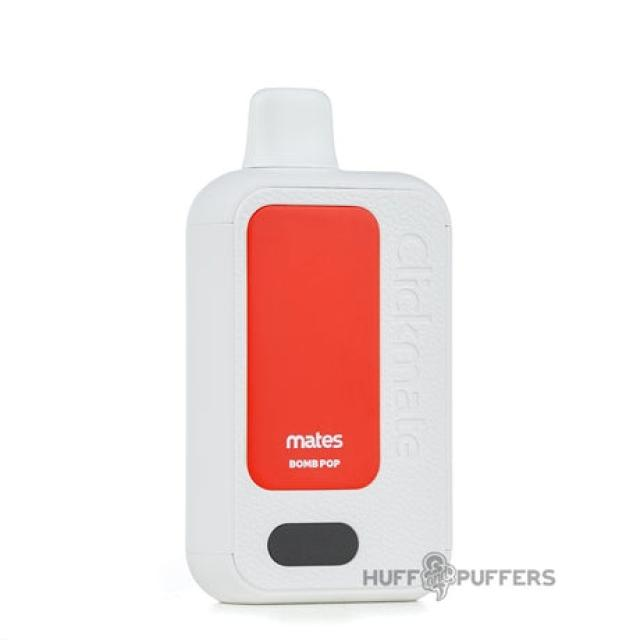Hazard: (182, 85, 454, 605)
